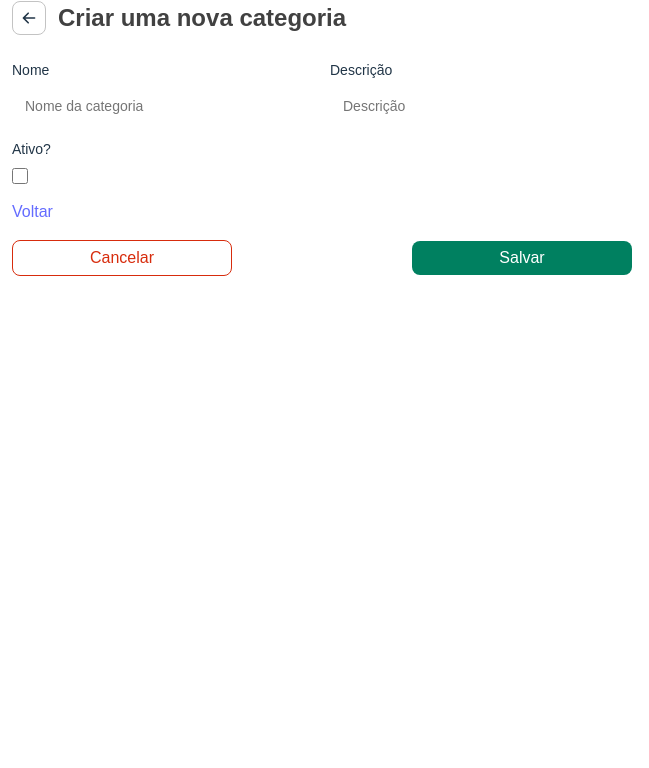
Test case: CreateCategoryPage › should execute handle submit event when clicking `Salve` with error state
The image size is (649, 768).
What coordinates should you click on to do the following:
click the button "Salvar"
I would click on:
 (522, 258)
Its box is [412,241,632,275].
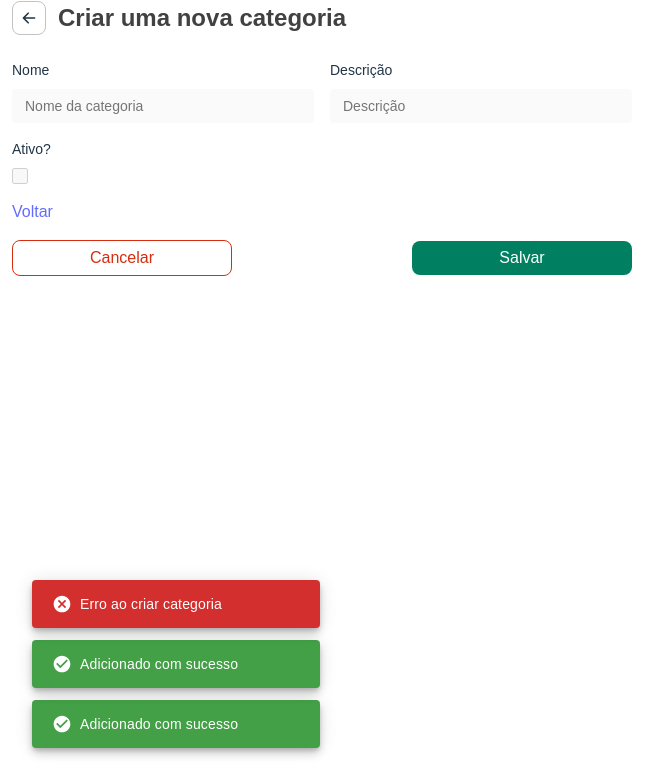
Expected: the text "Erro ao criar categoria" is shown, [52,594,222,614]
